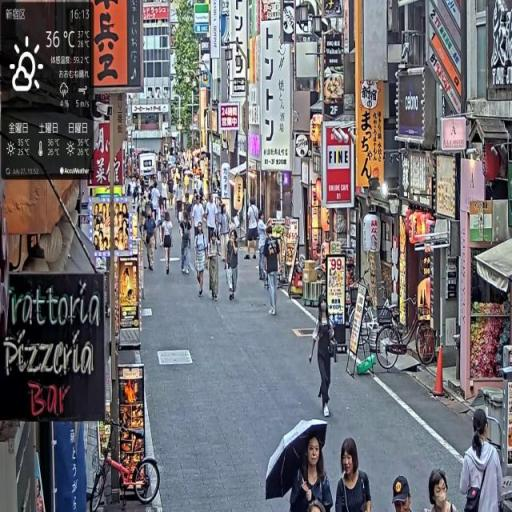person: (459, 407, 506, 512), (309, 294, 339, 424), (290, 429, 336, 511), (336, 436, 374, 512), (263, 225, 284, 317), (428, 470, 460, 512), (195, 222, 210, 302), (225, 227, 240, 302), (207, 229, 221, 303), (143, 208, 158, 273), (161, 210, 175, 277), (247, 198, 261, 263), (180, 208, 193, 275)
